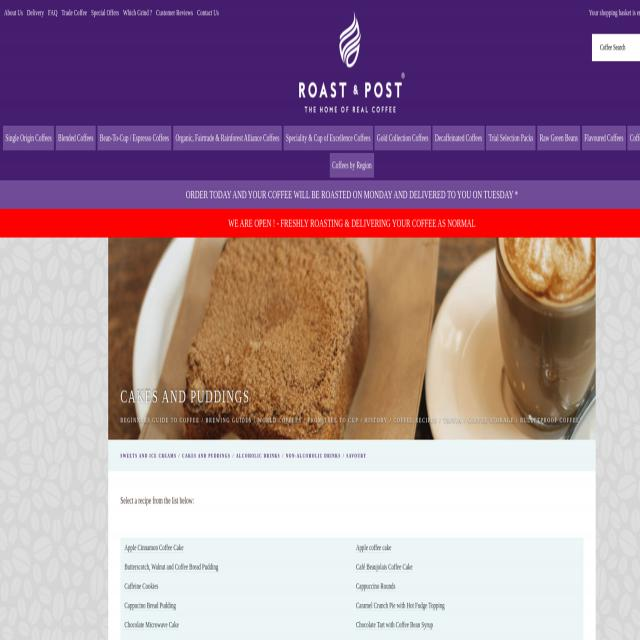button: (290, 3, 415, 121), (173, 126, 282, 150), (283, 126, 373, 150), (98, 126, 172, 150), (375, 125, 431, 150), (432, 126, 484, 150), (3, 126, 54, 150), (486, 126, 536, 150), (330, 153, 374, 178), (582, 126, 626, 150), (538, 126, 580, 150), (56, 126, 96, 150), (628, 126, 640, 150)
field: (592, 34, 640, 60)
